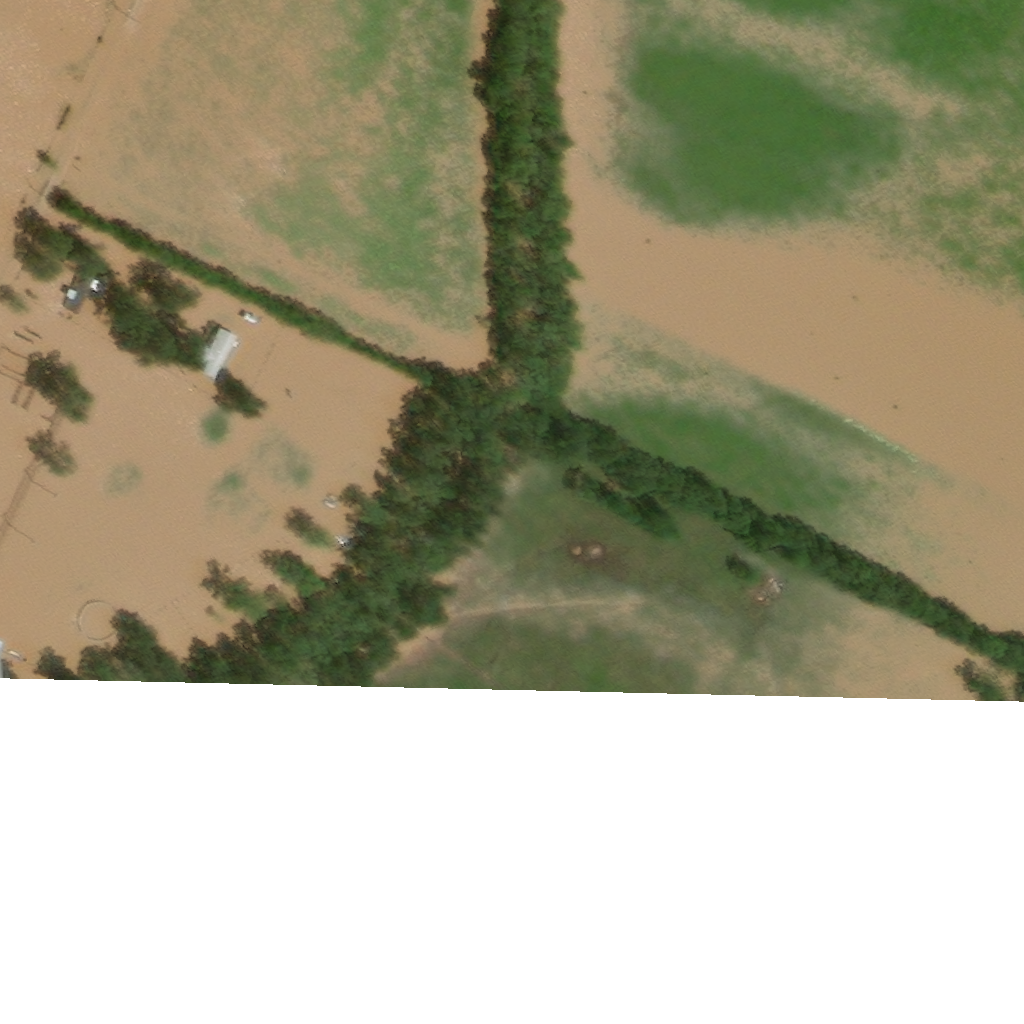major_damage: (197, 329, 238, 385), (65, 264, 103, 320), (245, 318, 259, 331)
